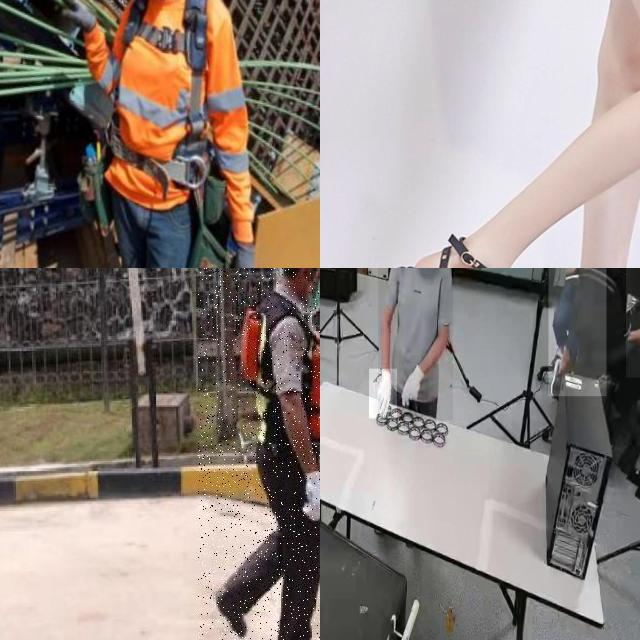Harness: (123, 0, 208, 136)
Sandals: (353, 191, 640, 268)
boots: (212, 581, 248, 640)
hand_glove: (399, 356, 429, 420), (369, 369, 397, 419)
person: (198, 268, 320, 640), (378, 268, 453, 421), (548, 268, 607, 397)
vest: (238, 300, 320, 458)
